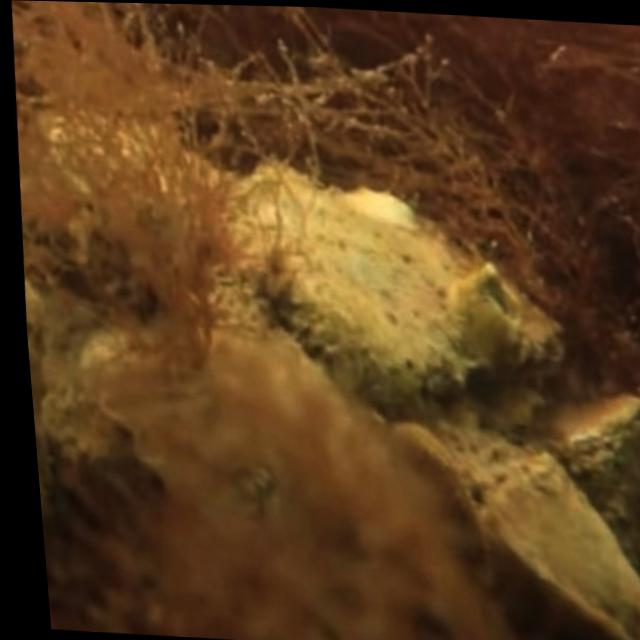Oyster-Indeterminate: (244, 188, 561, 410), (404, 416, 640, 640), (538, 393, 640, 469)
